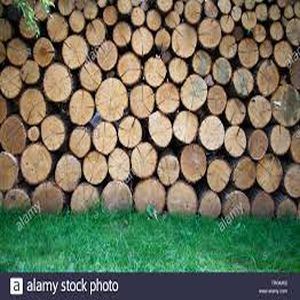log: (93, 77, 131, 122), (133, 177, 166, 218), (165, 181, 198, 222), (20, 143, 53, 184), (270, 86, 300, 131), (41, 63, 74, 103), (101, 180, 134, 216), (254, 153, 282, 195), (198, 113, 225, 155), (180, 74, 209, 113), (19, 88, 49, 125), (180, 144, 207, 185), (129, 142, 158, 180), (31, 182, 65, 214), (1, 117, 28, 157), (228, 154, 257, 191), (39, 115, 67, 153), (128, 83, 156, 121), (68, 183, 102, 214), (80, 149, 108, 186), (172, 109, 200, 146), (219, 189, 252, 220), (147, 110, 173, 149), (54, 155, 82, 191), (69, 90, 97, 126), (171, 23, 200, 57), (255, 59, 280, 97), (116, 115, 143, 150), (92, 120, 118, 156), (106, 148, 133, 182), (116, 52, 143, 86), (250, 190, 275, 226), (154, 81, 181, 114), (223, 124, 247, 161), (247, 96, 273, 129), (61, 35, 87, 68), (206, 157, 231, 191), (157, 152, 182, 186), (30, 37, 56, 69), (67, 126, 92, 159), (143, 56, 168, 89), (237, 37, 260, 72), (224, 97, 249, 129), (269, 125, 292, 159), (1, 66, 24, 100), (198, 18, 223, 49), (5, 37, 30, 68), (195, 189, 221, 218), (78, 60, 102, 91), (45, 12, 69, 43), (1, 152, 19, 193), (207, 84, 228, 119), (232, 68, 256, 98), (274, 40, 297, 71), (96, 40, 119, 70), (210, 56, 232, 87), (16, 13, 40, 41), (247, 128, 266, 163), (86, 17, 108, 47), (132, 27, 154, 56), (168, 57, 190, 84), (190, 49, 212, 76), (3, 189, 32, 209), (111, 22, 132, 49), (19, 60, 41, 85), (181, 1, 203, 26), (283, 164, 300, 196), (217, 35, 238, 60), (145, 8, 165, 34), (276, 195, 295, 221), (68, 10, 86, 36), (285, 18, 300, 47), (154, 28, 172, 52), (218, 14, 236, 37), (102, 5, 119, 28), (82, 1, 100, 22), (241, 9, 257, 32), (130, 6, 147, 27), (164, 9, 181, 30), (269, 22, 285, 44), (253, 2, 269, 24), (258, 39, 274, 60), (58, 1, 76, 18), (203, 1, 219, 19), (27, 125, 41, 144), (253, 24, 267, 43), (267, 4, 280, 23), (230, 4, 242, 24), (157, 1, 175, 14), (282, 4, 295, 21), (118, 1, 133, 14), (219, 1, 233, 14)
